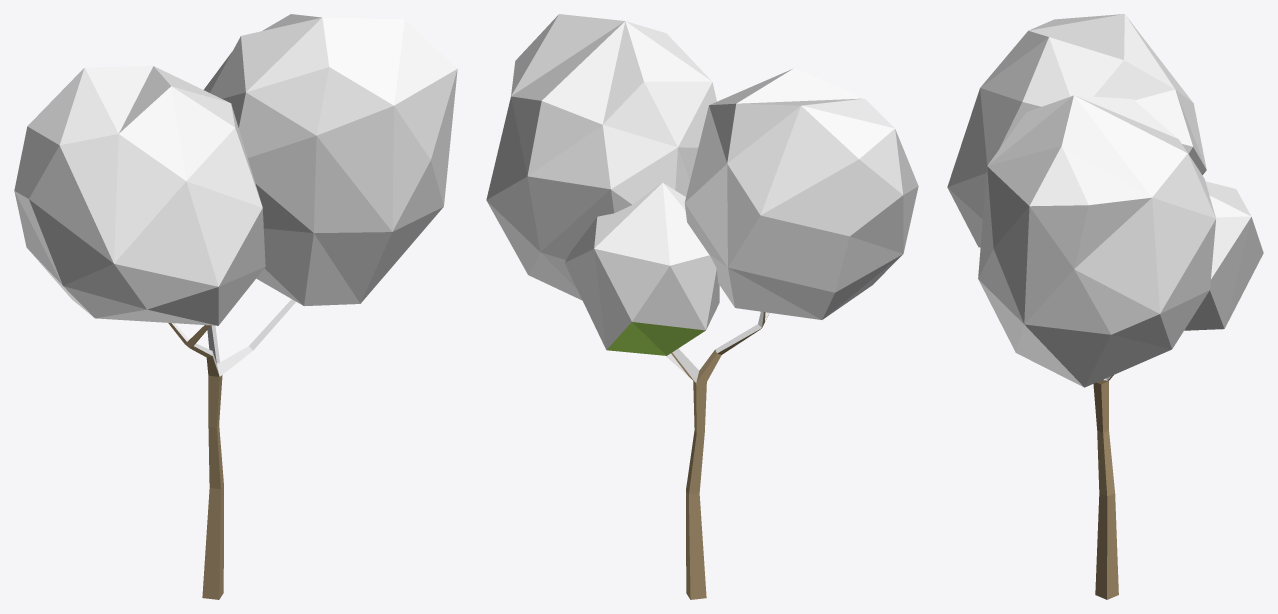
The model's file is Apple_Tree_s_Snow_BT_03.fbx.
3 views of the same model, side by side, from view 1: azimuth 30°, elevation 25°; view 2: azimuth 150°, elevation 25°; view 3: azimuth 270°, elevation 25° (orthographic). The views are drawn at different scales.
Parts seen in each view (by area): view 1: Apple_Tree_s_Snow_BT_03; view 2: Apple_Tree_s_Snow_BT_03; view 3: Apple_Tree_s_Snow_BT_03.
Boxes of the visible parts, x1,y1,x2,y2 form: Apple_Tree_s_Snow_BT_03: [14, 14, 457, 599]; Apple_Tree_s_Snow_BT_03: [486, 14, 918, 599]; Apple_Tree_s_Snow_BT_03: [947, 14, 1263, 599].
Size of the model in its own units: 227 by 304 by 161.
